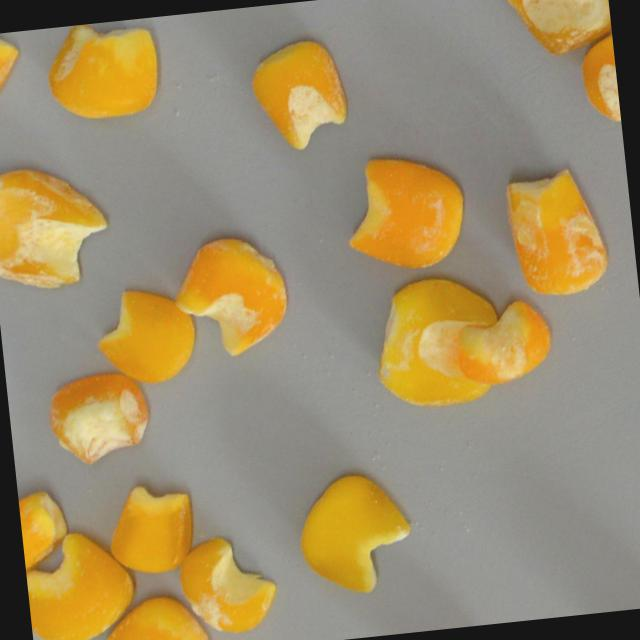no_canjicado: (287, 464, 419, 603), (21, 525, 142, 640), (87, 277, 203, 391), (101, 475, 200, 579), (91, 586, 211, 640)
no_desgerminado: (448, 294, 555, 391)
pelicula: (363, 267, 507, 418), (333, 145, 473, 278), (164, 224, 296, 364), (0, 155, 116, 296), (500, 158, 612, 302), (39, 16, 165, 125), (244, 32, 352, 155), (171, 529, 284, 640), (39, 366, 153, 471), (499, 0, 613, 59), (16, 486, 73, 577), (575, 23, 621, 125), (0, 30, 24, 111)
